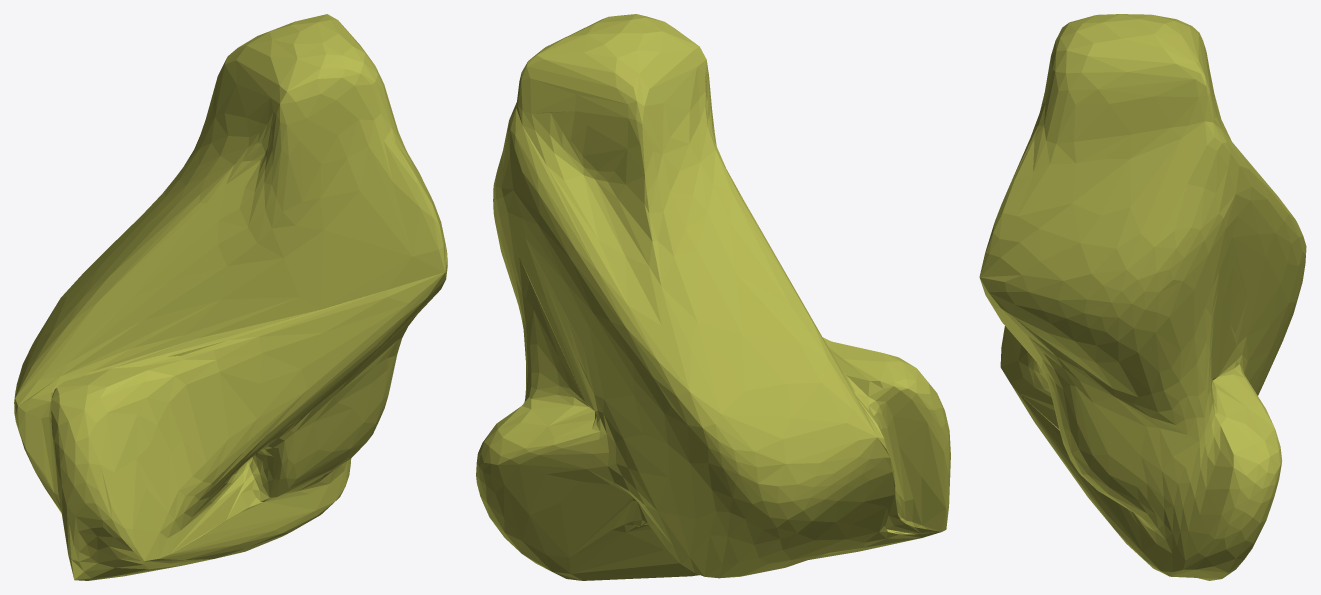
3 renders of one model, left to right at view 1: azimuth 30°, elevation 25°; view 2: azimuth 150°, elevation 25°; view 3: azimuth 270°, elevation 25°, orthographic. The views are drawn at different scales.
Parts seen in each view (by area): view 1: 073_Cube.297; view 2: 073_Cube.297; view 3: 073_Cube.297.
Boxes of the visible parts, box(x1,y1,x2,y2) form: 073_Cube.297: box(14, 14, 447, 580); 073_Cube.297: box(476, 14, 950, 580); 073_Cube.297: box(979, 14, 1306, 580).
Bounding box in the file's own units: 11.23 × 13.83 × 7.41.
